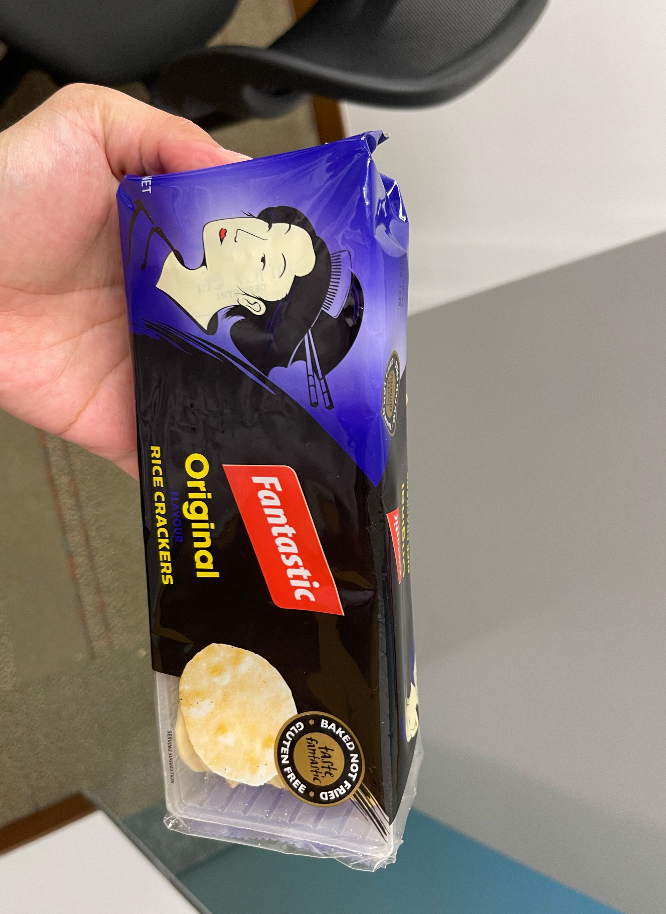crackers_100g-199g: (130, 170, 413, 829)
